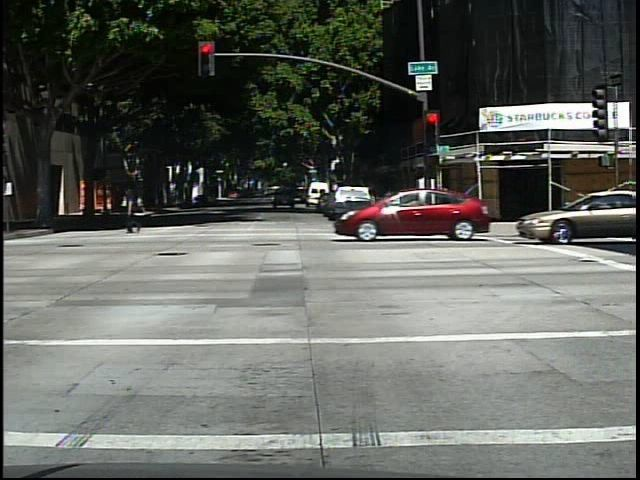person: (117, 183, 150, 236)
